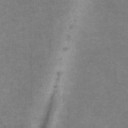finishing roll printing: (41, 72, 64, 128), (61, 46, 71, 52), (66, 34, 73, 41), (69, 24, 75, 30)
